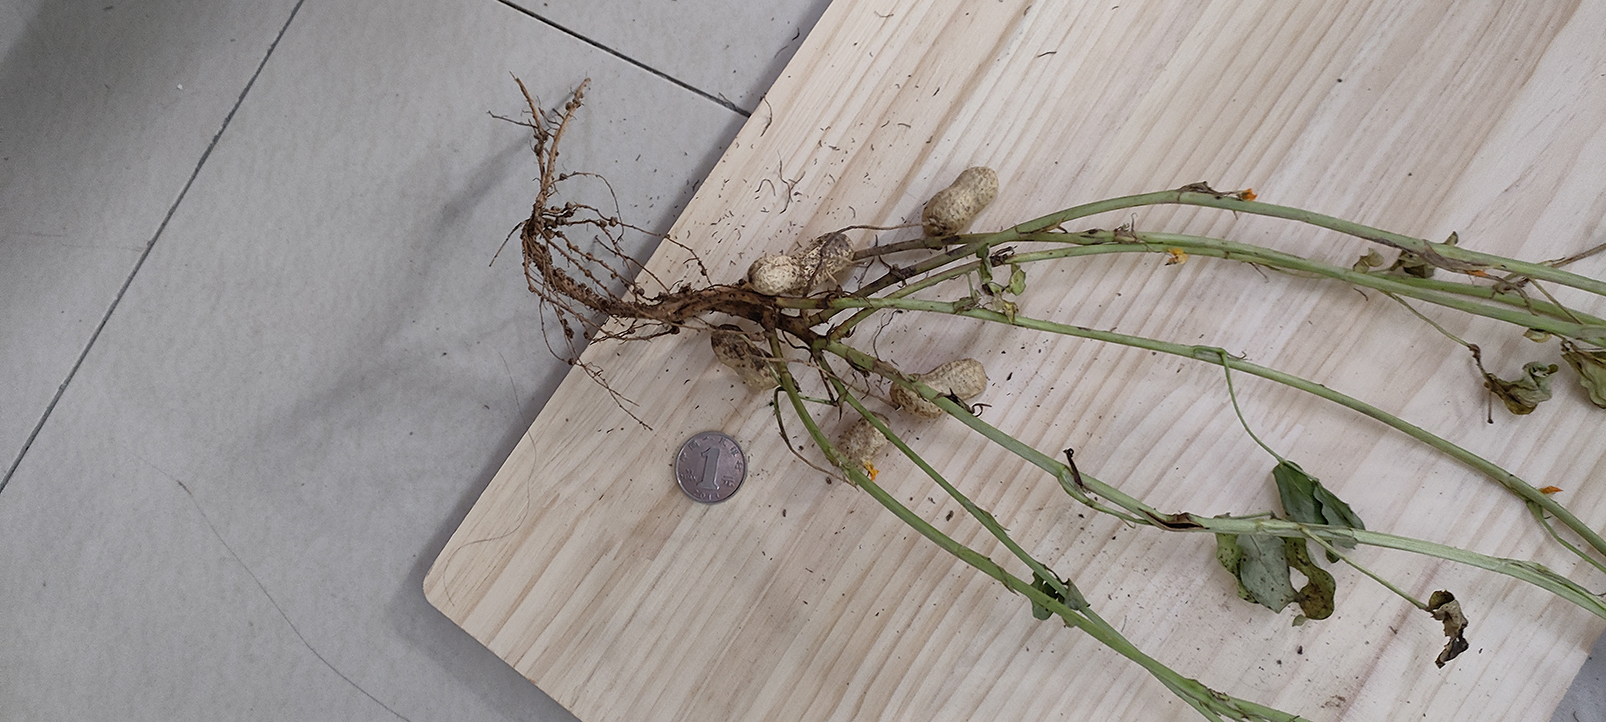h: (749, 232, 855, 295), (890, 358, 988, 416), (920, 167, 998, 235)
l: (712, 325, 778, 390), (839, 413, 892, 457)
